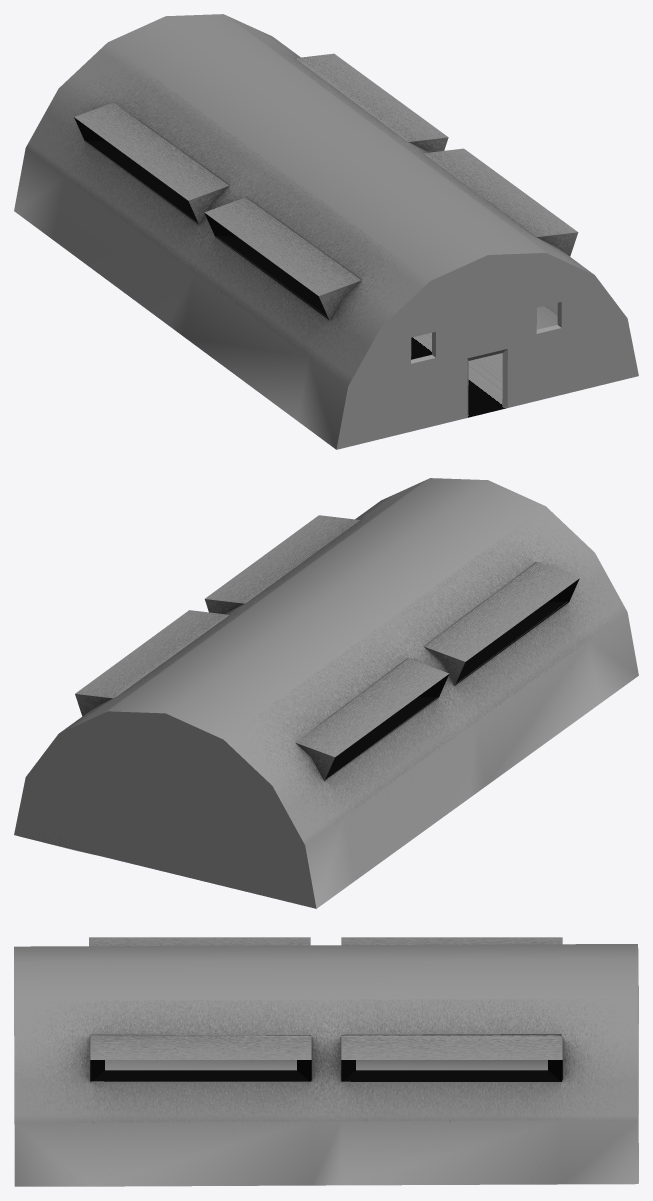
Rendered from barraconUVW.FBX.
3 views of the same model, one above another, from view 1: azimuth 30°, elevation 25°; view 2: azimuth 150°, elevation 25°; view 3: azimuth 270°, elevation 25° (orthographic). The views are drawn at different scales.
Visible parts, largest first — view 1: bunker; view 2: bunker; view 3: bunker.
Boxes of the visible parts, x1,y1,x2,y2 form: bunker: (14, 14, 638, 449); bunker: (14, 478, 638, 908); bunker: (14, 937, 638, 1186).
Bounding box in the file's own units: 41.99 × 21.36 × 77.65.
